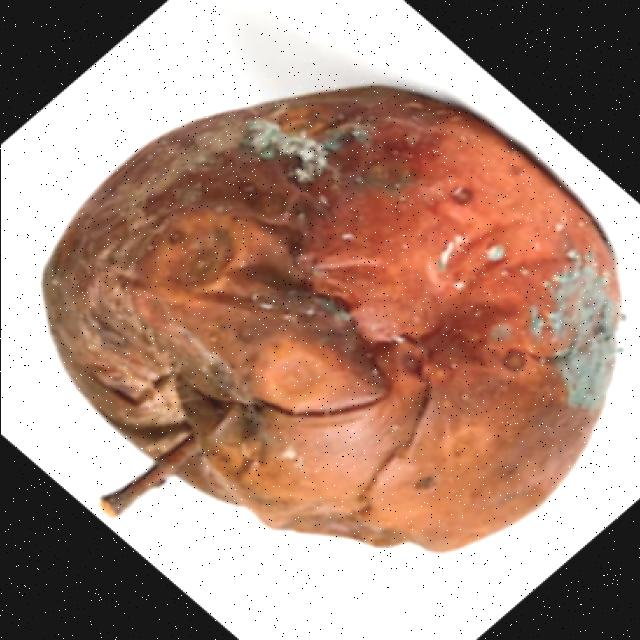Rotten: (30, 80, 622, 558)
